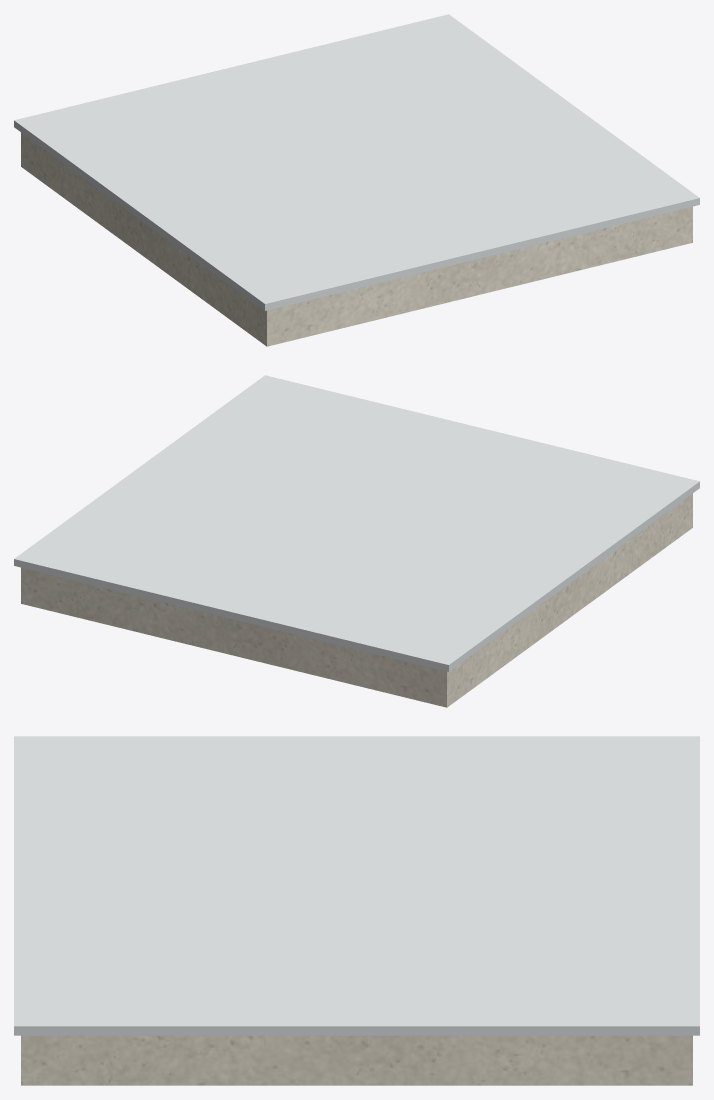
File: floor_tile_bath.glb
3 views of the same model, one above another, from view 1: azimuth 30°, elevation 25°; view 2: azimuth 150°, elevation 25°; view 3: azimuth 270°, elevation 25° (orthographic). The views are drawn at different scales.
Parts seen in each view (by area): view 1: floor_tile_bath_tile, floor_tile_bath_plaster; view 2: floor_tile_bath_tile, floor_tile_bath_plaster; view 3: floor_tile_bath_tile, floor_tile_bath_plaster.
Boxes of the visible parts, left/top/right/bottom form: floor_tile_bath_tile: left=14, top=14, right=699, bottom=310; floor_tile_bath_plaster: left=21, top=132, right=692, bottom=346; floor_tile_bath_tile: left=14, top=375, right=699, bottom=671; floor_tile_bath_plaster: left=21, top=493, right=692, bottom=707; floor_tile_bath_tile: left=14, top=736, right=699, bottom=1035; floor_tile_bath_plaster: left=21, top=1035, right=692, bottom=1085.
Size of the model in its own units: 2 by 0.2 by 2.
2 materials, 1 textured.
